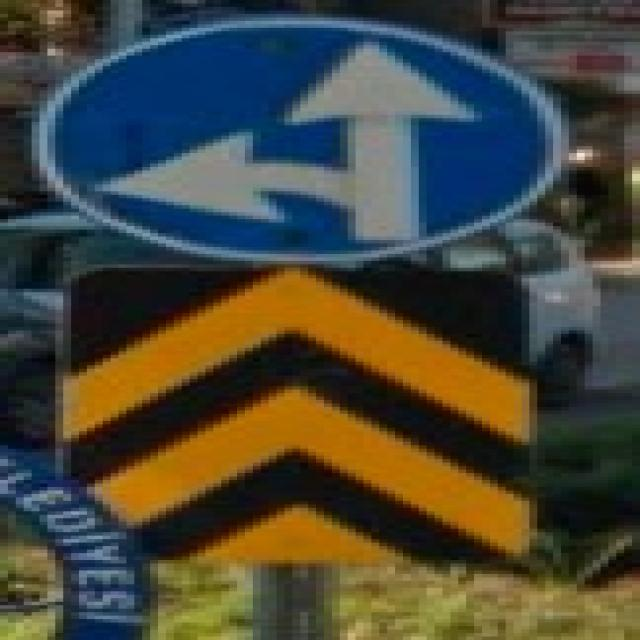Straight or Left: (32, 15, 570, 262)
